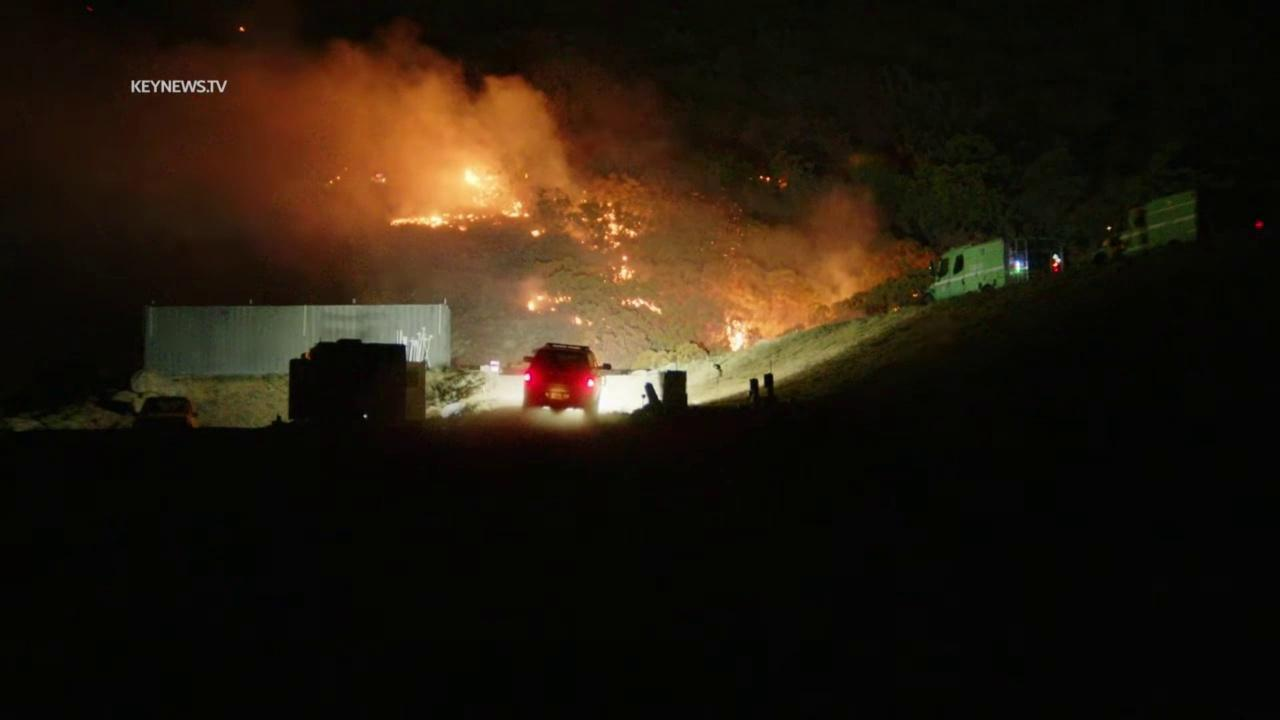fire: (463, 168, 533, 218), (596, 202, 642, 249), (388, 212, 453, 229), (526, 290, 572, 312), (604, 255, 638, 284), (724, 316, 750, 353), (620, 296, 663, 316), (370, 172, 387, 185), (529, 228, 546, 237), (778, 176, 788, 190), (573, 314, 583, 326), (457, 224, 468, 232), (456, 213, 465, 222), (466, 213, 475, 221), (586, 318, 593, 328), (238, 26, 247, 33), (766, 176, 771, 182), (329, 180, 334, 185), (759, 175, 764, 180), (336, 176, 341, 180)
smoke: (54, 3, 937, 373)
